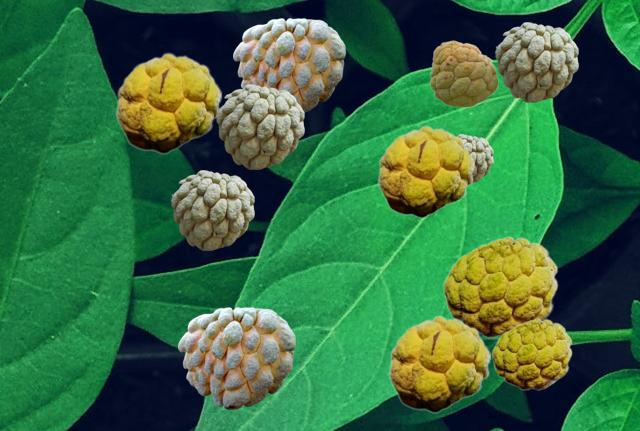atis: (178, 307, 294, 408), (442, 236, 557, 337), (115, 52, 221, 153), (233, 18, 344, 113), (388, 315, 490, 412), (377, 125, 474, 217), (216, 84, 303, 168), (171, 170, 253, 249), (495, 22, 577, 101), (491, 318, 571, 389), (429, 40, 497, 106), (458, 134, 492, 182)
